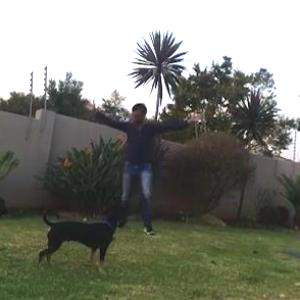takeoff: (89, 102, 207, 225)
